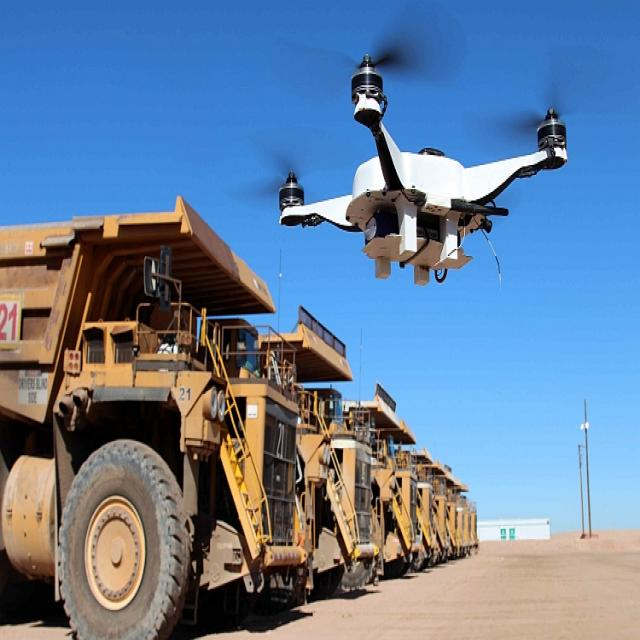dump_truck: (0, 191, 299, 633), (281, 311, 374, 585), (367, 389, 418, 569), (415, 439, 434, 570), (435, 453, 451, 558), (452, 475, 459, 554), (470, 498, 480, 553), (460, 477, 466, 557), (466, 493, 472, 552)
